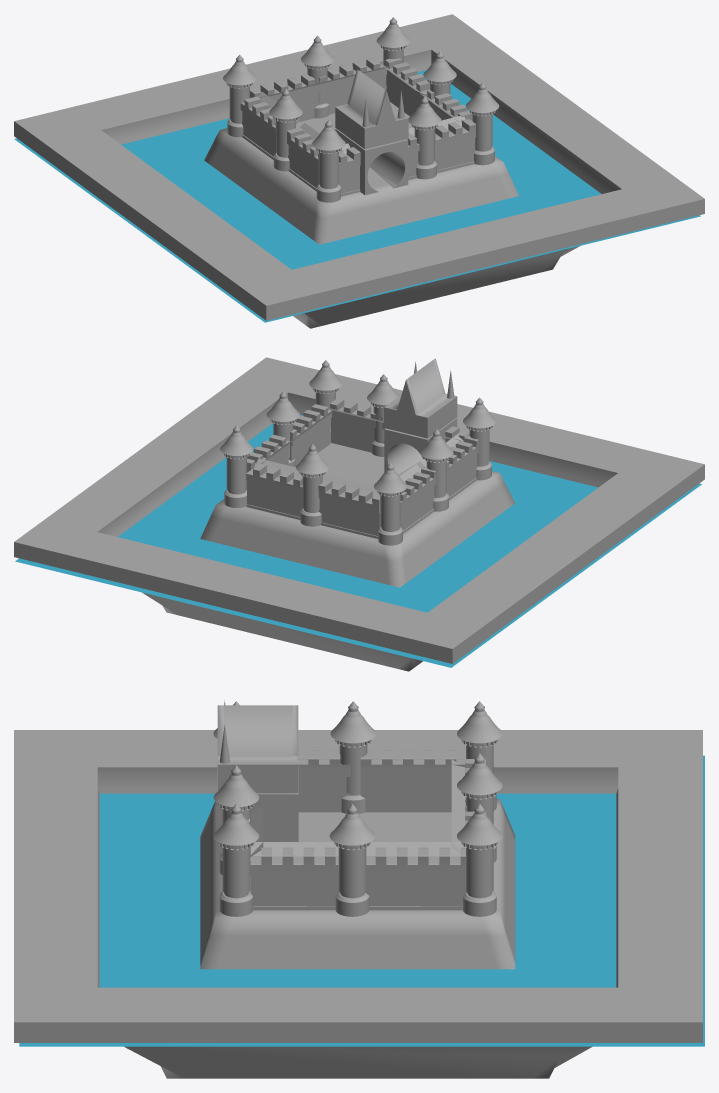
Rendered from Castlw.fbx.
3 renders of one model, top to bottom at view 1: azimuth 30°, elevation 25°; view 2: azimuth 150°, elevation 25°; view 3: azimuth 270°, elevation 25°, orthographic. The views are drawn at different scales.
Visible parts, largest first — view 1: pPlane1, pPlane2, pCube11, pCube7, pCube5, pCylinder3, pCube2, pCube4, pCube1, pCylinder7, pCylinder9, pCube6 (+8 smaller); view 2: pPlane1, pPlane2, pCube11, pCube6, pCube5, pCube7, pCube2, pCylinder4, pCube3, pCylinder5, pCube1, pCylinder8 (+6 smaller); view 3: pPlane1, pPlane2, pCube11, pCube4, pCube3, pCube2, pCylinder7, pCylinder6, pCylinder5, pCube1, pCylinder2, pCylinder4 (+3 smaller).
Part boxes in pixels (x1,y1,x2,y2): pPlane1: [14, 14, 704, 328]; pPlane2: [14, 70, 700, 322]; pCube11: [335, 69, 408, 195]; pCube7: [434, 116, 475, 172]; pCube5: [319, 58, 391, 114]; pCylinder3: [312, 120, 345, 202]; pCube2: [240, 91, 300, 159]; pCube4: [380, 58, 429, 116]; pCube1: [287, 122, 342, 191]; pCylinder7: [466, 82, 499, 165]; pCylinder9: [408, 96, 441, 179]; pCube6: [250, 74, 323, 121]; pPlane1: [14, 357, 704, 671]; pPlane2: [15, 414, 701, 667]; pCube11: [384, 358, 457, 474]; pCube6: [318, 475, 380, 538]; pCube5: [246, 458, 325, 519]; pCube7: [328, 398, 376, 452]; pCube2: [399, 464, 436, 533]; pCylinder4: [373, 463, 407, 545]; pCube3: [289, 404, 339, 466]; pCylinder5: [220, 425, 253, 507]; pCube1: [420, 433, 478, 500]; pCylinder8: [296, 443, 329, 526]; pPlane1: [14, 730, 702, 1078]; pPlane2: [19, 755, 704, 1046]; pCube11: [217, 705, 298, 855]; pCube4: [365, 842, 467, 910]; pCube3: [250, 842, 339, 910]; pCube2: [360, 750, 466, 812]; pCylinder7: [213, 803, 259, 916]; pCylinder6: [329, 804, 375, 916]; pCylinder5: [457, 803, 502, 916]; pCube1: [298, 750, 350, 812]; pCylinder2: [330, 701, 376, 813]; pCylinder4: [457, 701, 502, 810].
Size of the model in its own units: 23.85 by 10.47 by 23.83.
